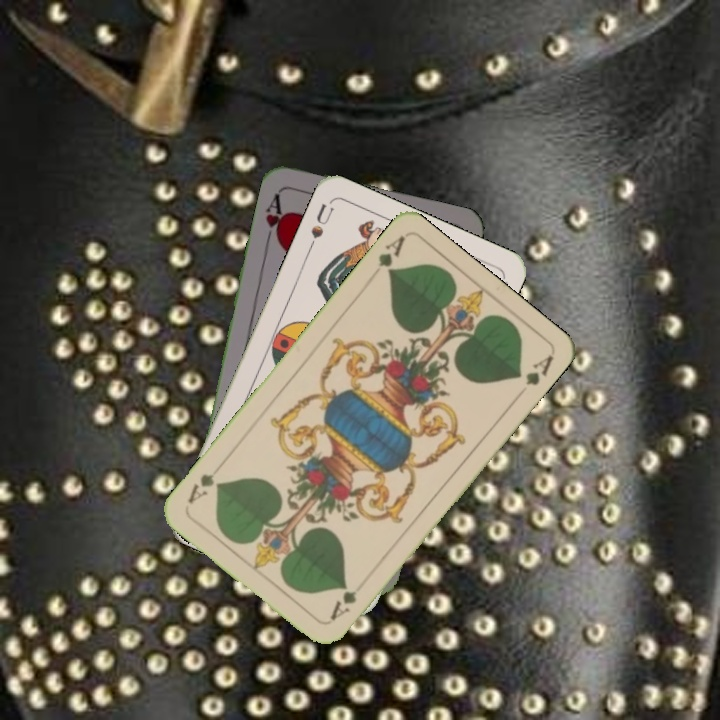GA: (326, 575, 369, 623), (374, 232, 407, 278)
HA: (261, 188, 289, 246)
SU: (304, 198, 337, 254)
